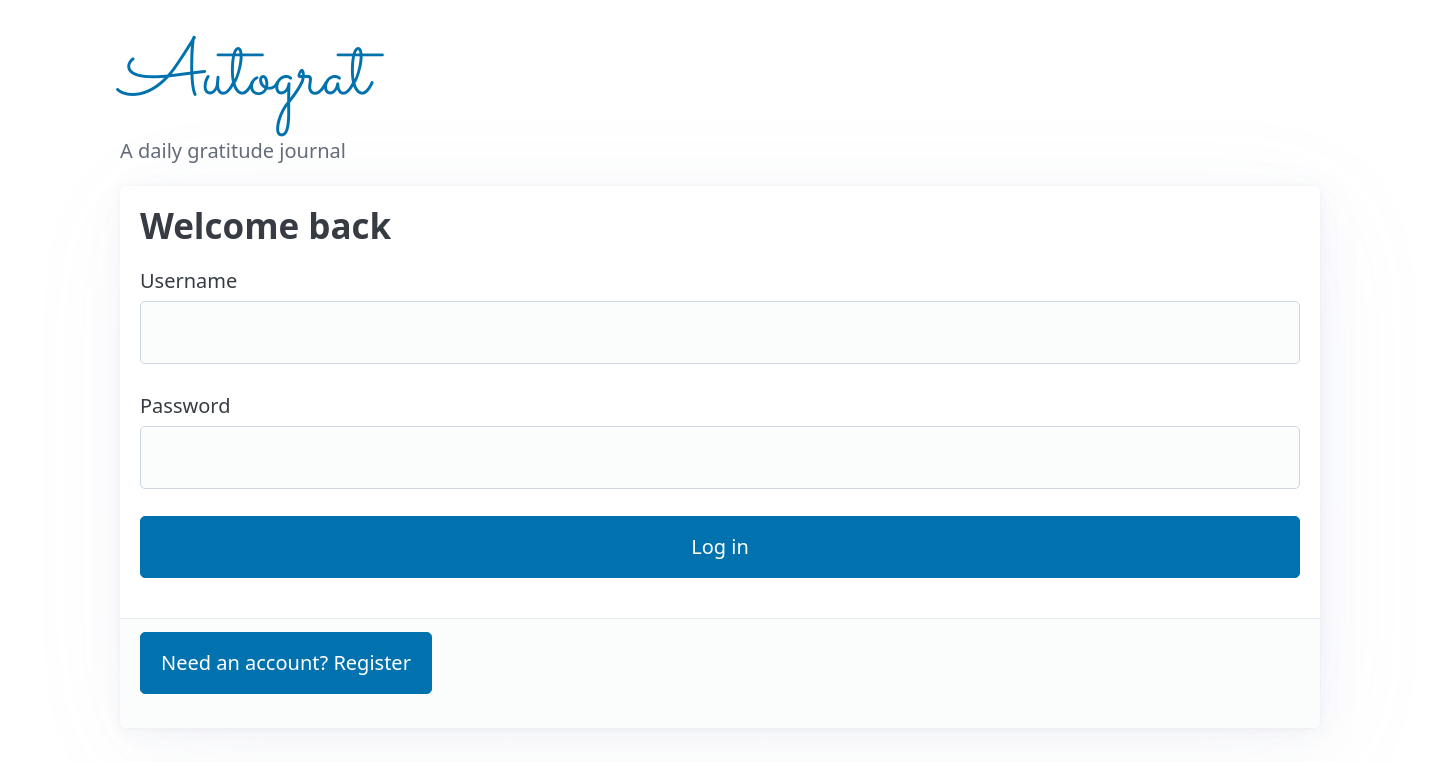
LoginPage › does not register when the passwords do not match
Click the button "Need an account? Register". click: (286,663)
box: [140, 632, 432, 694]
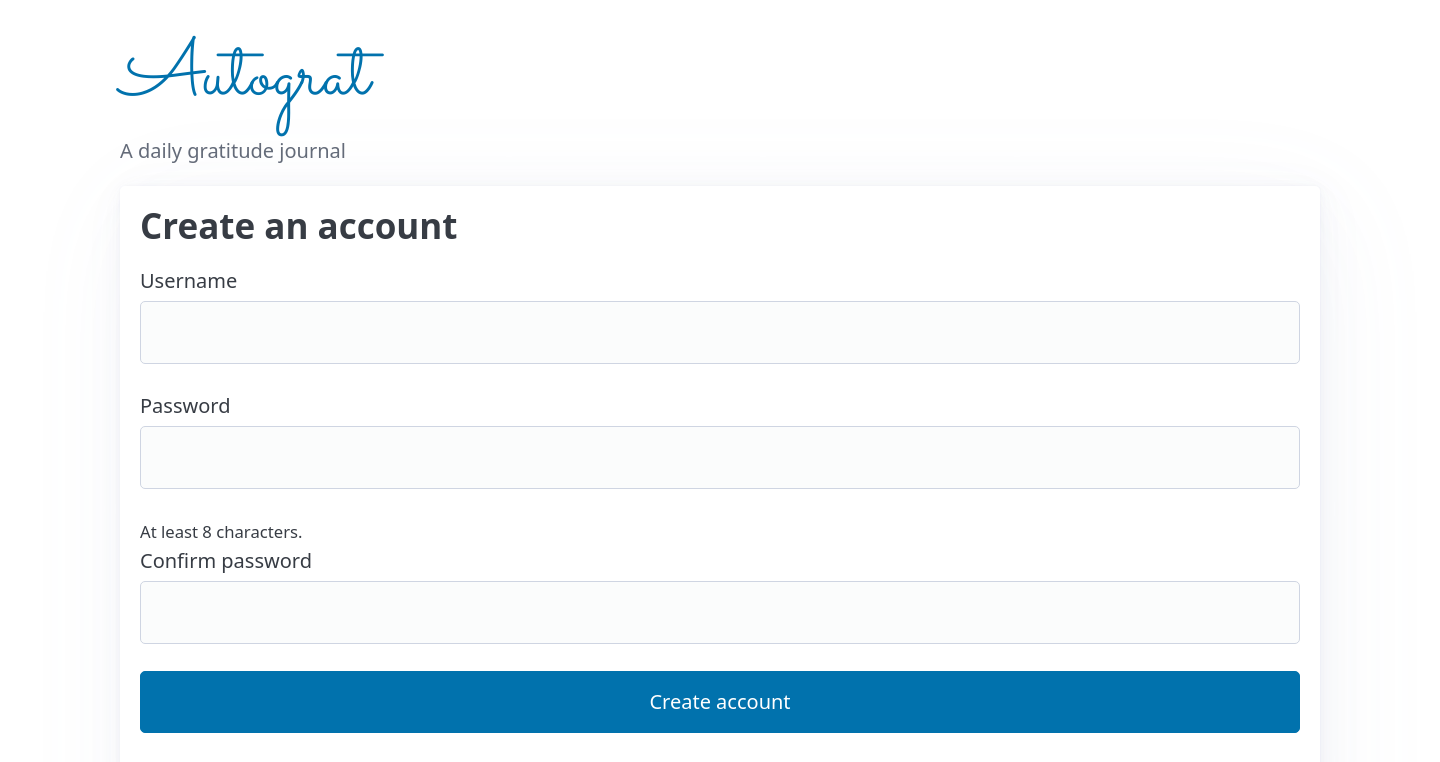
Type "billy" into the field labelled "Username". click: (720,333)
box: [140, 301, 1300, 364]
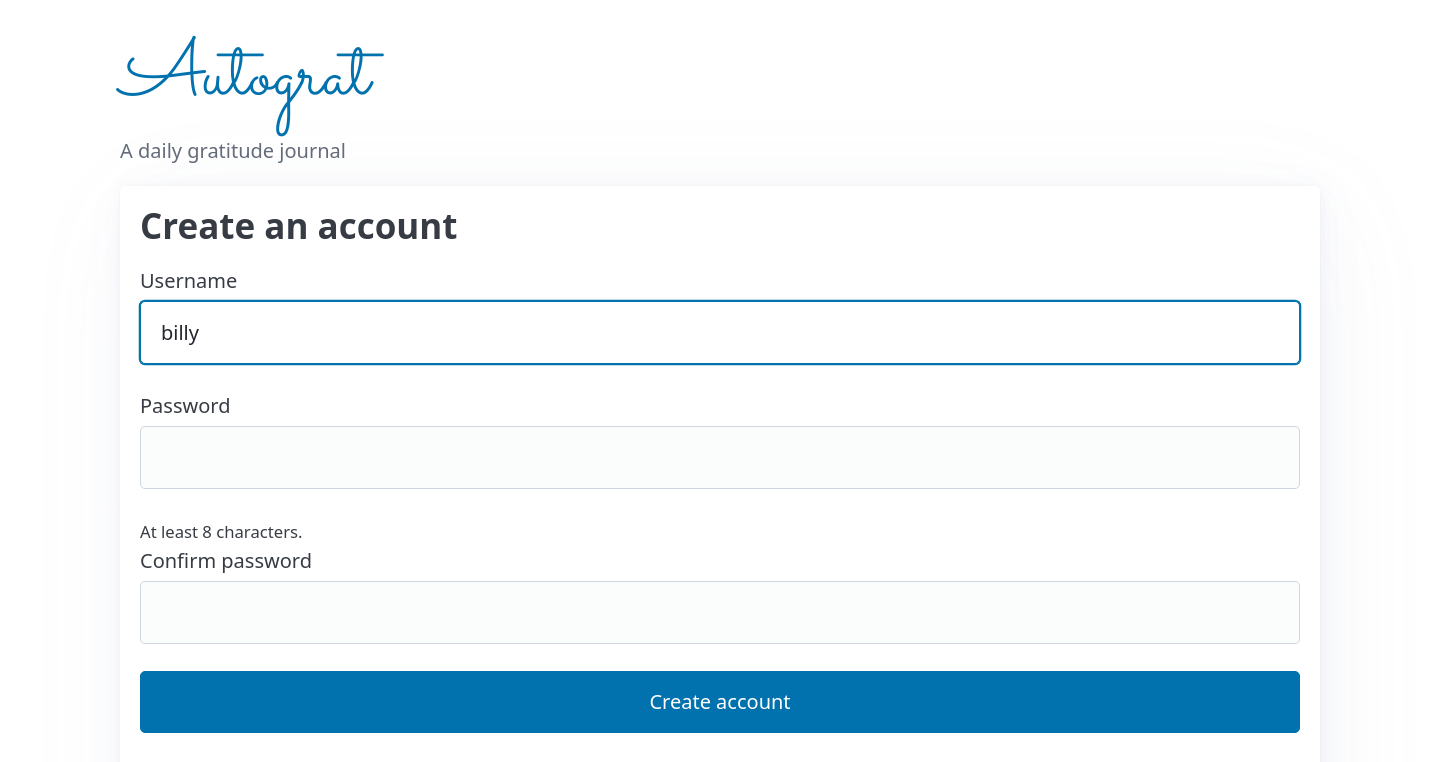
Type "password" into the password field labelled "Password". click: (720,458)
box: [140, 426, 1300, 489]
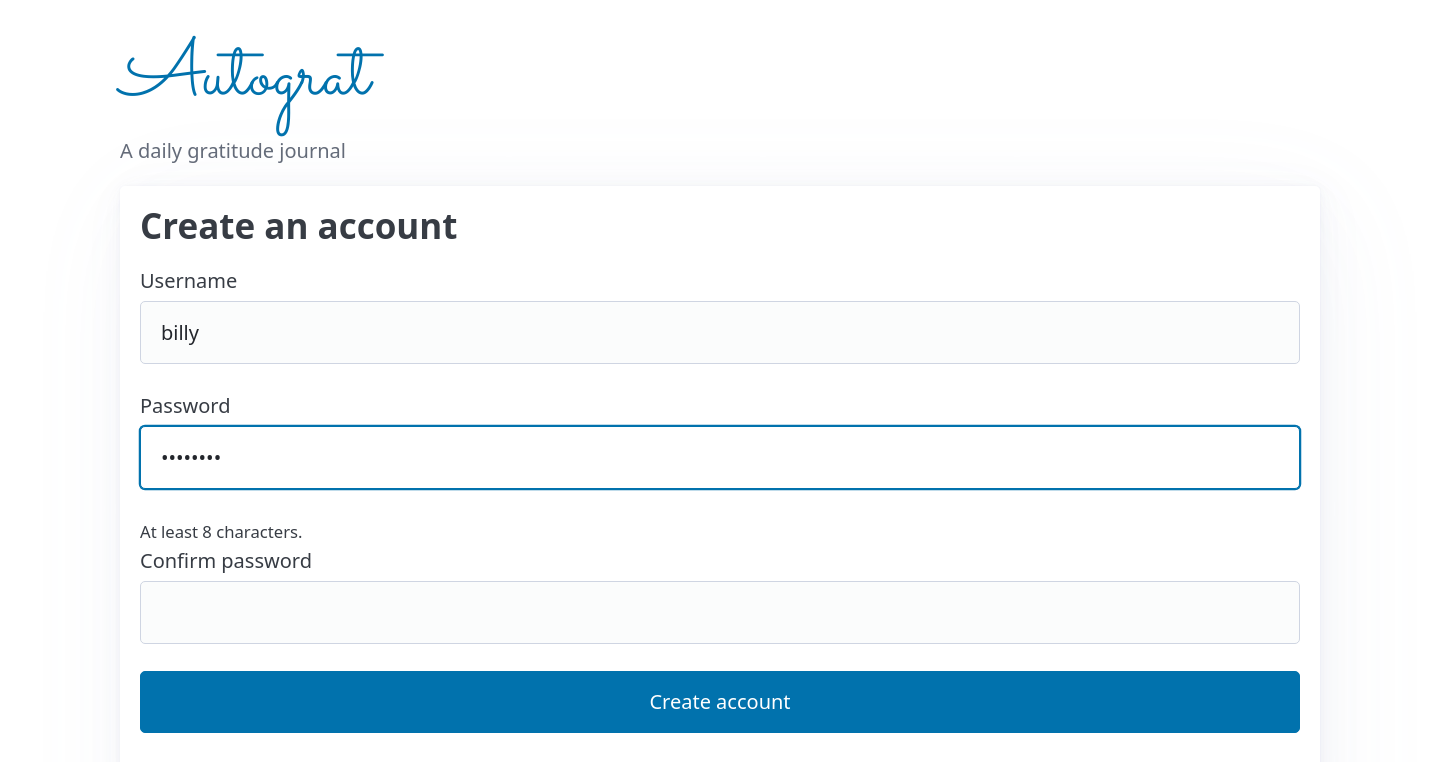
Type "passwrod" into the password field labelled "Confirm password". click: (720,613)
box: [140, 581, 1300, 644]
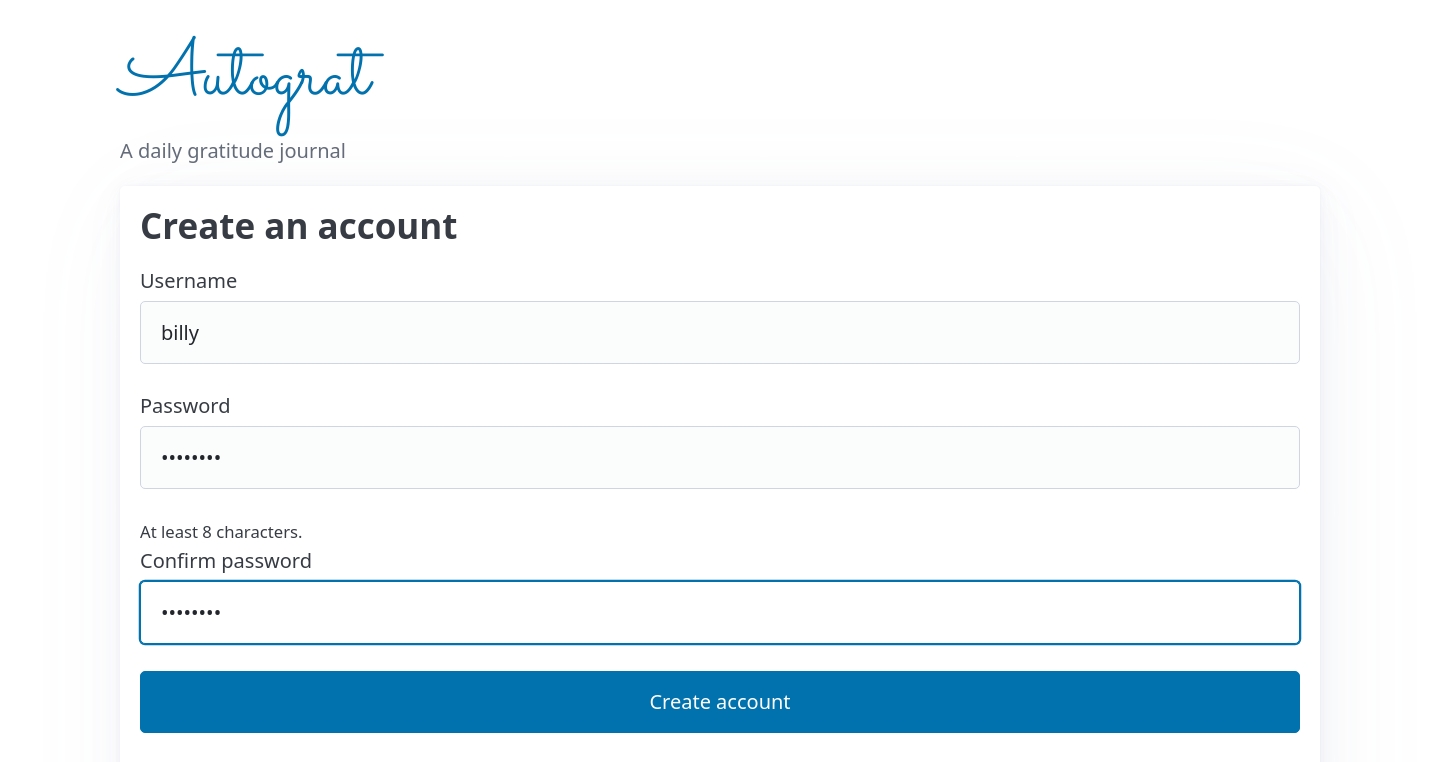
Click the button "Create account". click: (720,702)
box: [140, 671, 1300, 733]
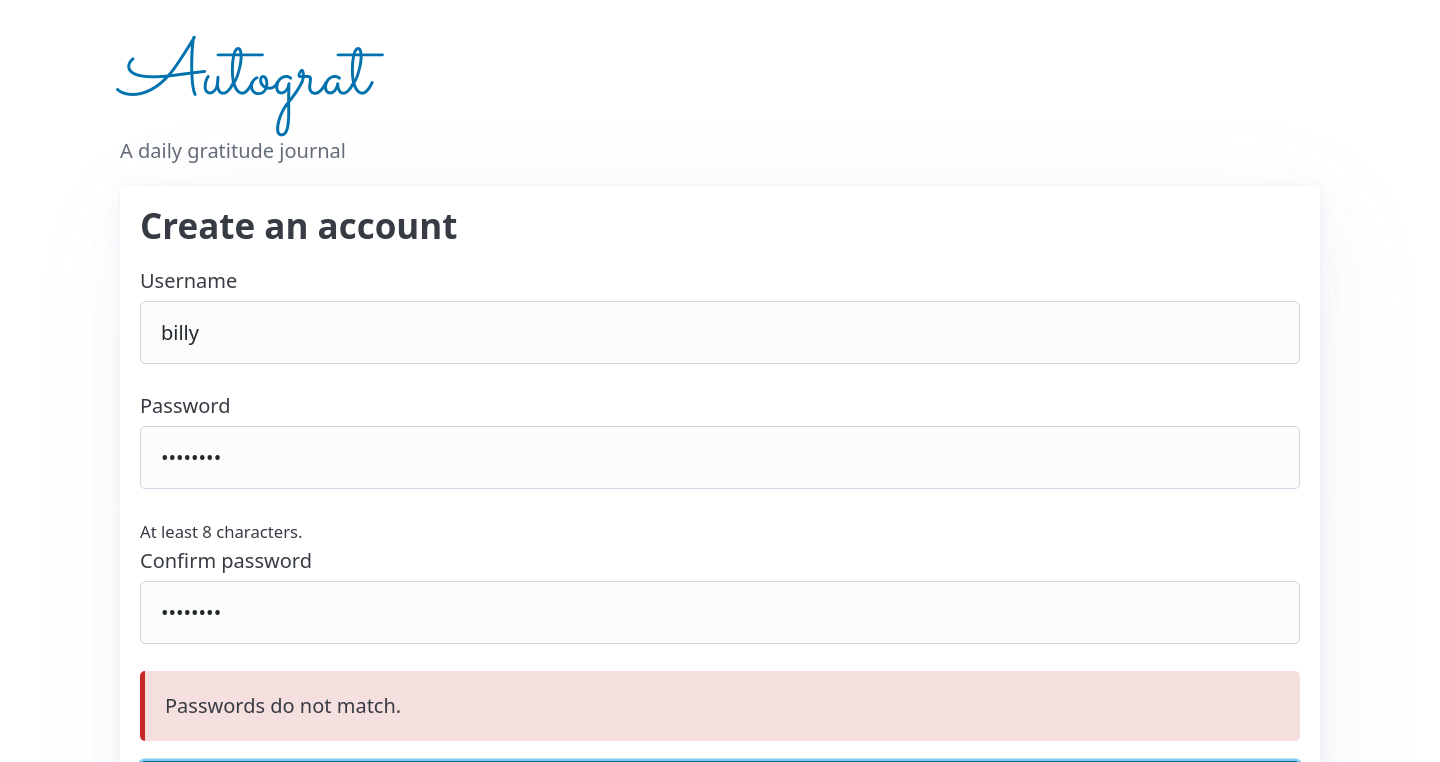
expect the message reads "Passwords do not match.": met, box [165, 692, 401, 719]
